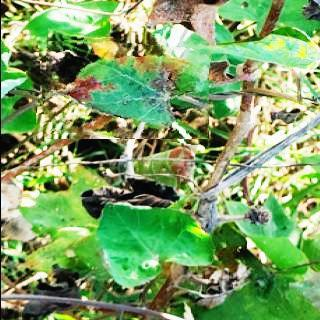blight: (37, 34, 208, 140)
